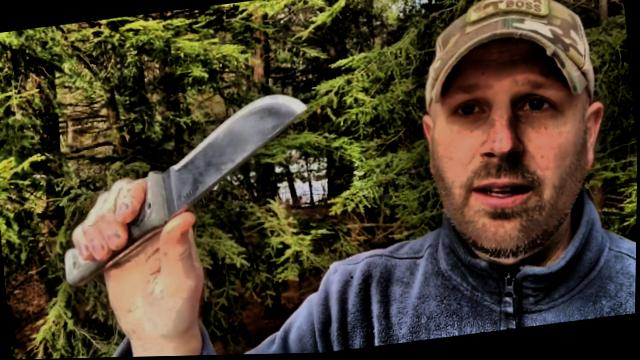knife: (80, 81, 331, 283)
